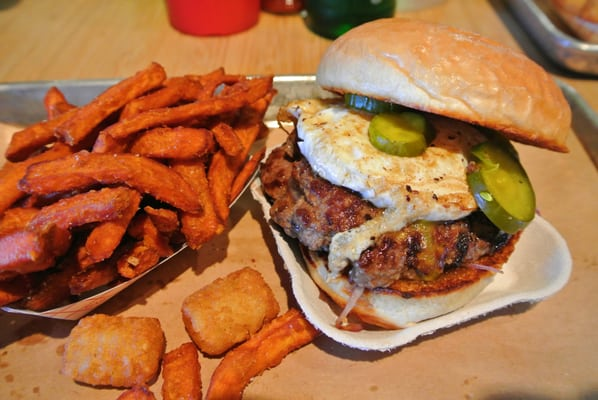pizza: (301, 1, 398, 40), (164, 1, 261, 37)
soup: (258, 18, 574, 330)
